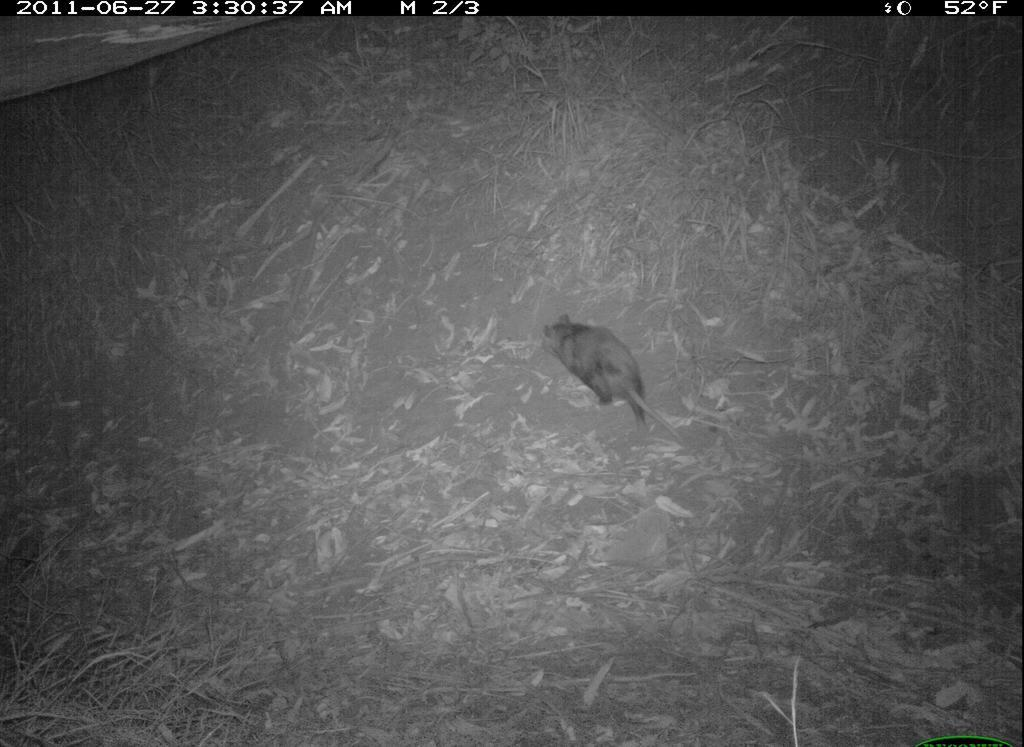opossum: (539, 308, 706, 464)
